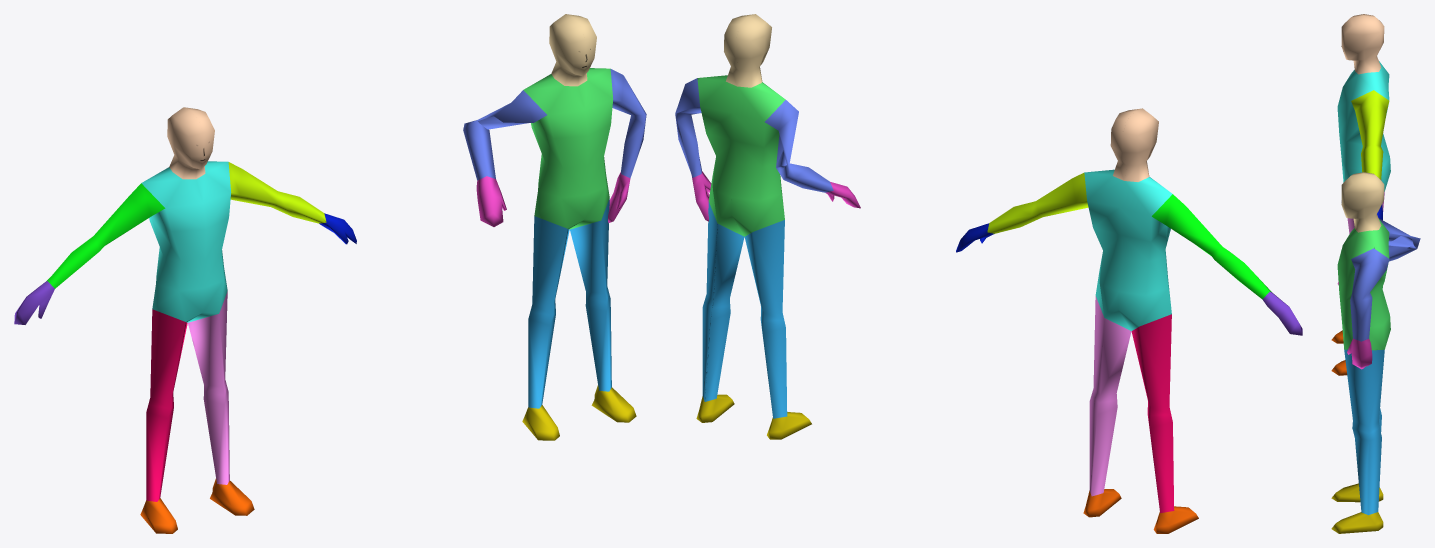
File: Humanoid2.fbx
3 renders of one model, left to right at view 1: azimuth 30°, elevation 25°; view 2: azimuth 150°, elevation 25°; view 3: azimuth 270°, elevation 25°, orthographic. The views are drawn at different scales.
Visible parts, largest first — view 1: HumanoidBase_NotOverlapping, HumanoidBase_Overlapping; view 2: HumanoidBase_NotOverlapping, HumanoidBase_Overlapping; view 3: HumanoidBase_Overlapping, HumanoidBase_NotOverlapping.
Boxes of the visible parts, x1,y1,x2,y2 form: HumanoidBase_NotOverlapping: (14, 107, 356, 533); HumanoidBase_Overlapping: (463, 14, 646, 440); HumanoidBase_NotOverlapping: (956, 108, 1302, 533); HumanoidBase_Overlapping: (675, 14, 860, 439); HumanoidBase_Overlapping: (1331, 172, 1420, 533); HumanoidBase_NotOverlapping: (1331, 14, 1390, 375).
Bounding box in the file's own units: 294 × 180 × 42.91.
2 materials, 2 textured.
